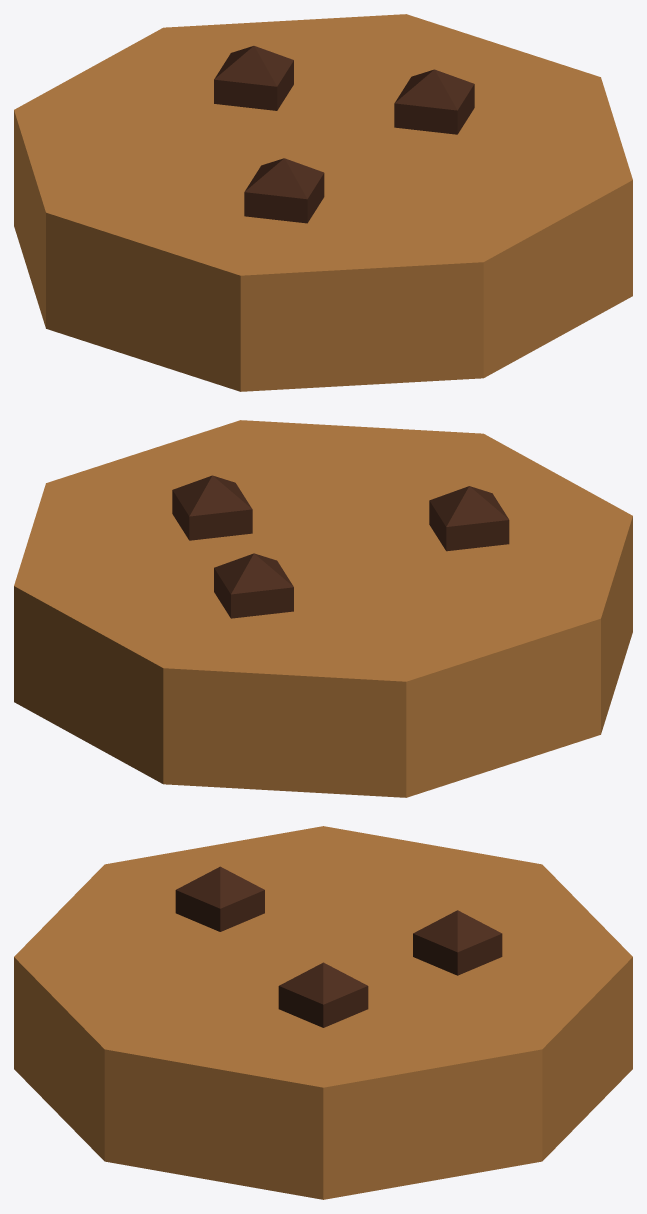
Rendered from cookie.fbx.
3 renders of one model, top to bottom at view 1: azimuth 30°, elevation 25°; view 2: azimuth 150°, elevation 25°; view 3: azimuth 270°, elevation 25°, orthographic. The views are drawn at different scales.
Parts seen in each view (by area): view 1: cookie; view 2: cookie; view 3: cookie.
Part boxes in pixels (box(x1,y1,x2,y2)): cookie: box(14, 14, 632, 391); cookie: box(14, 420, 632, 797); cookie: box(14, 826, 632, 1199).
Bounding box in the file's own units: 0.24 × 0.068 × 0.24.
